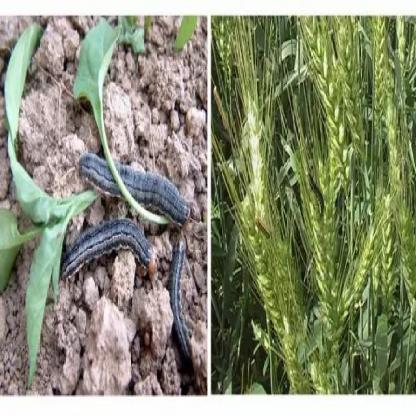armyworm: (76, 143, 190, 233), (59, 216, 158, 284), (168, 228, 198, 366), (305, 160, 326, 223), (209, 88, 232, 128), (252, 212, 273, 250), (328, 29, 340, 66)
